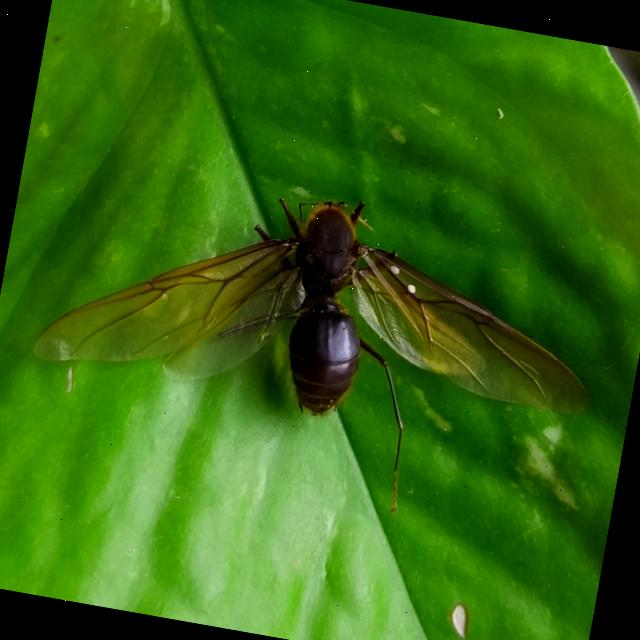Dead-Male-Alate: (15, 148, 615, 543)
